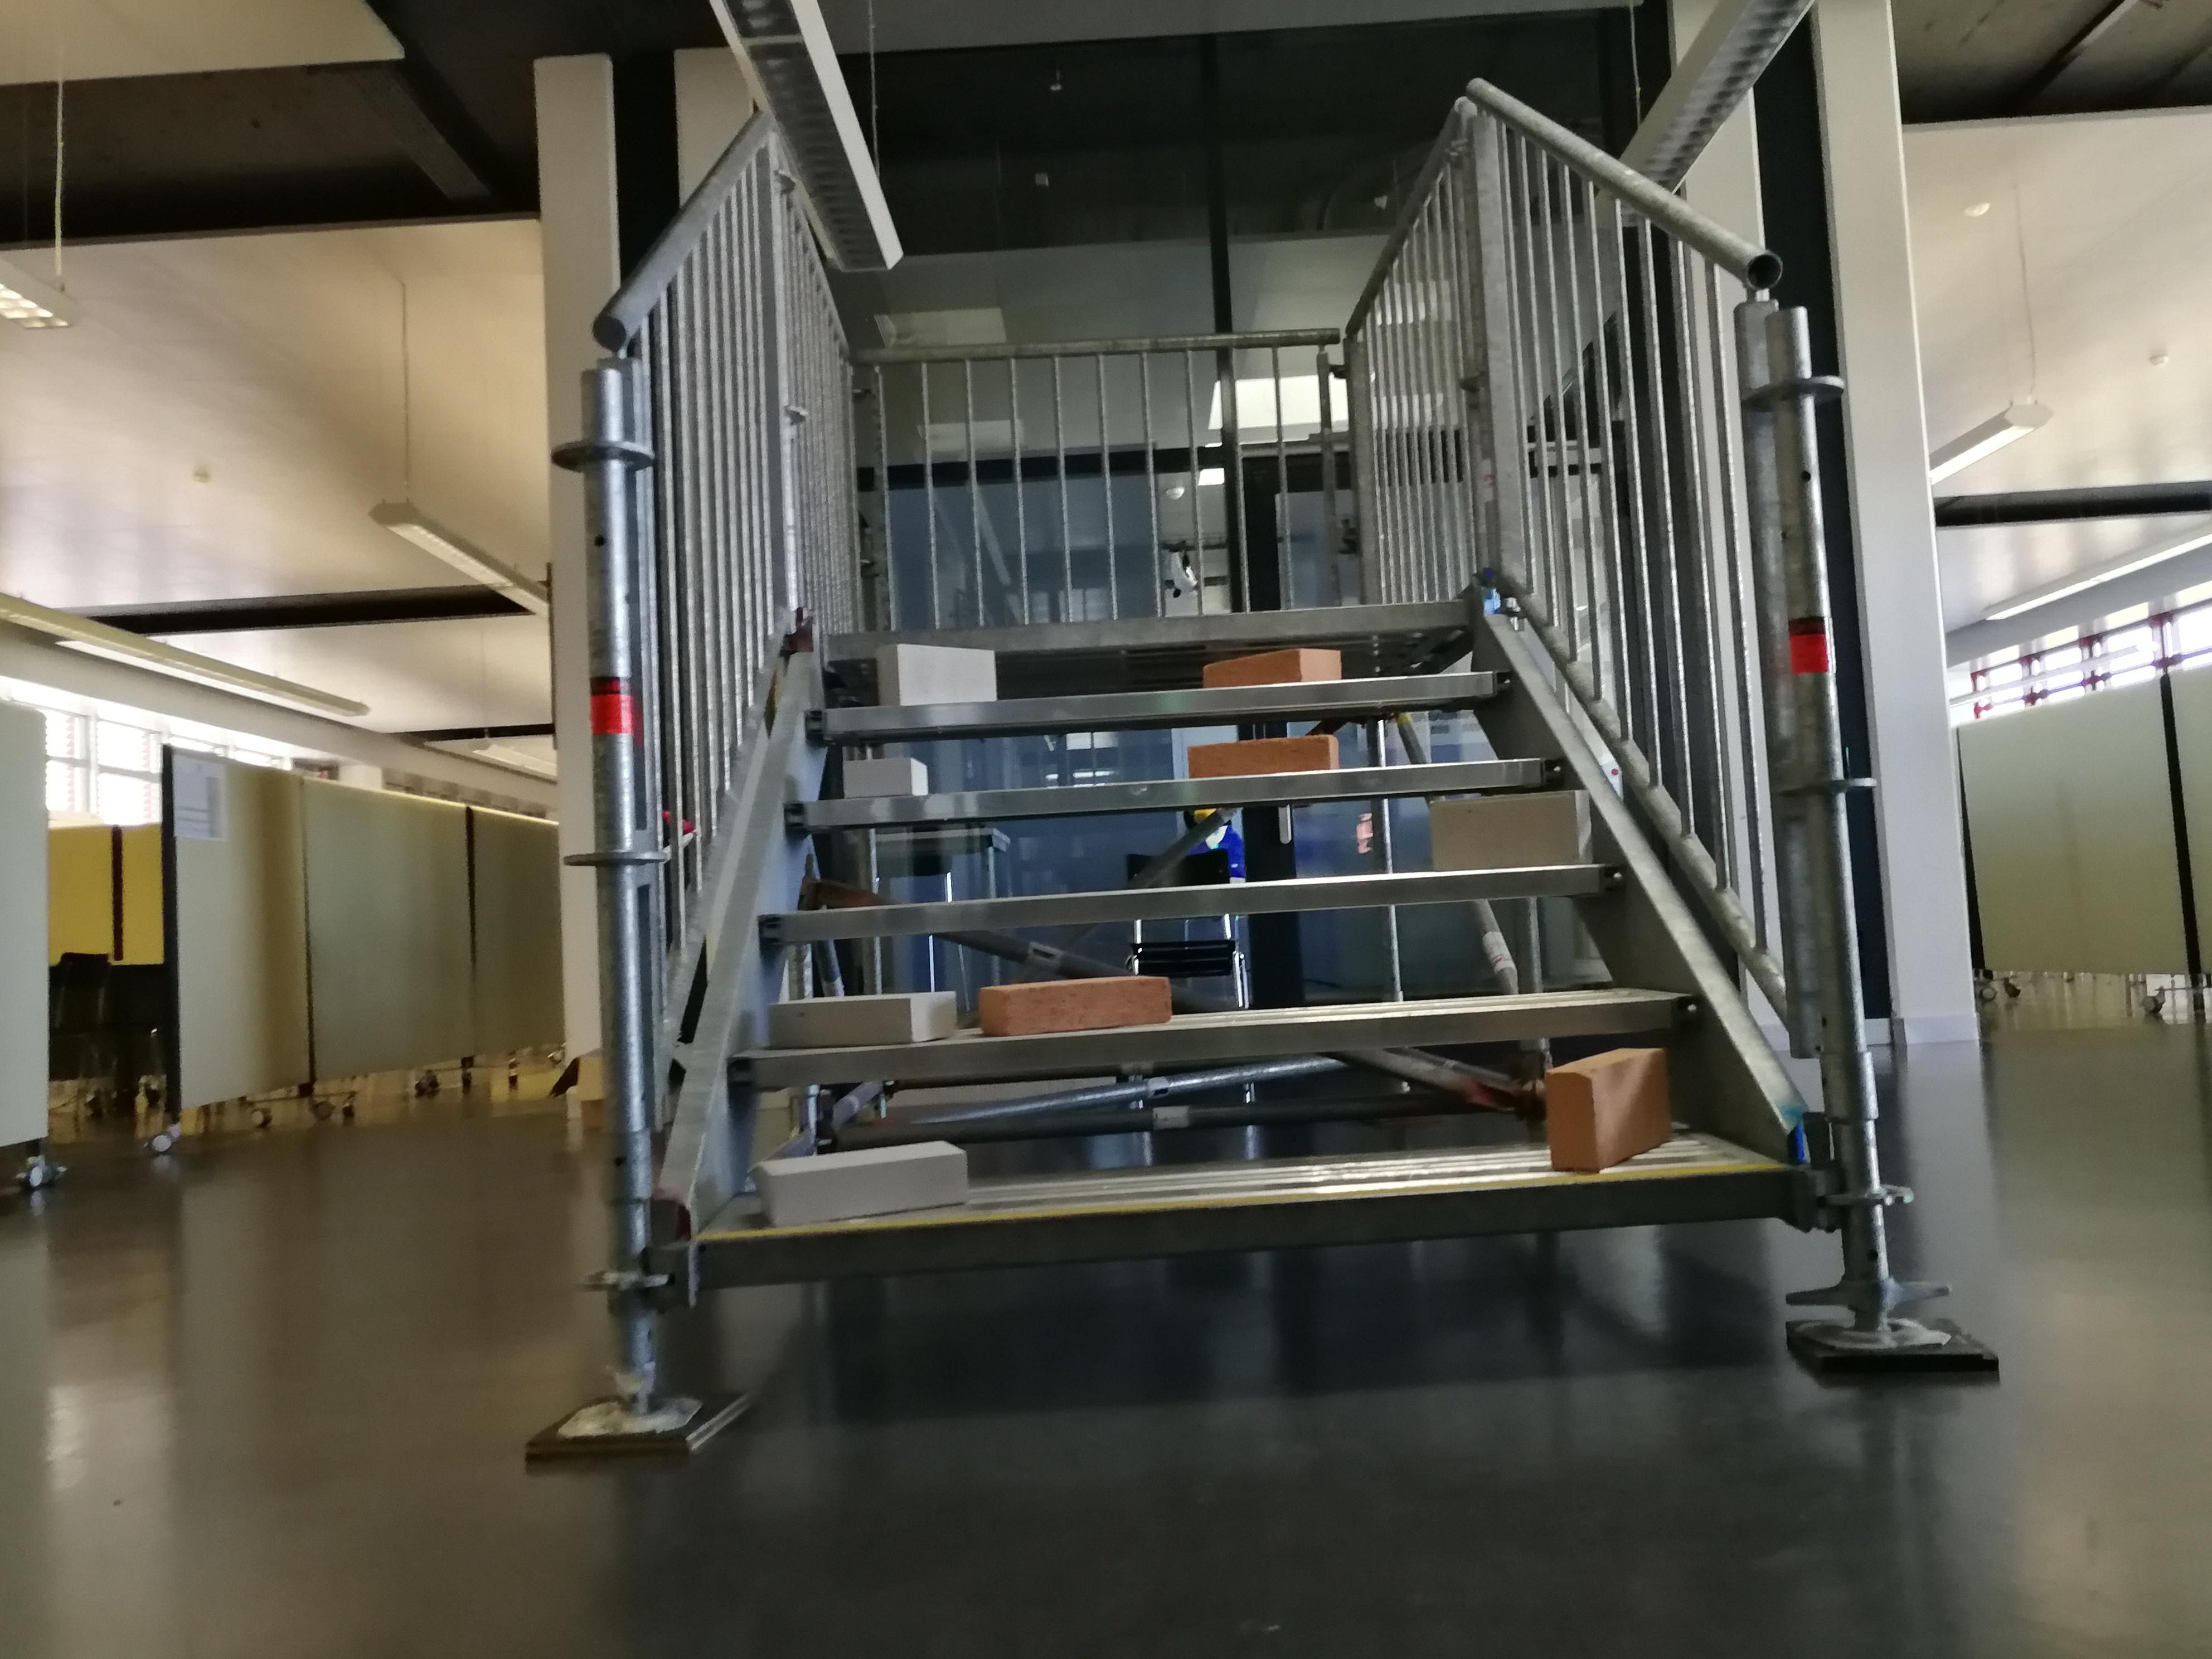brick: (756, 1140, 968, 1223), (1545, 1046, 1669, 1168), (1430, 789, 1588, 870), (981, 976, 1169, 1032), (777, 993, 951, 1044), (874, 643, 991, 704), (1188, 734, 1336, 774), (1197, 647, 1338, 685), (841, 760, 927, 795)
edge: (698, 1169, 1784, 1281), (730, 993, 1703, 1084), (758, 866, 1630, 939), (779, 758, 1564, 829), (827, 598, 1475, 662), (805, 673, 1514, 727)
stairs: (524, 115, 1996, 1462)
steps: (686, 582, 1801, 1298)
